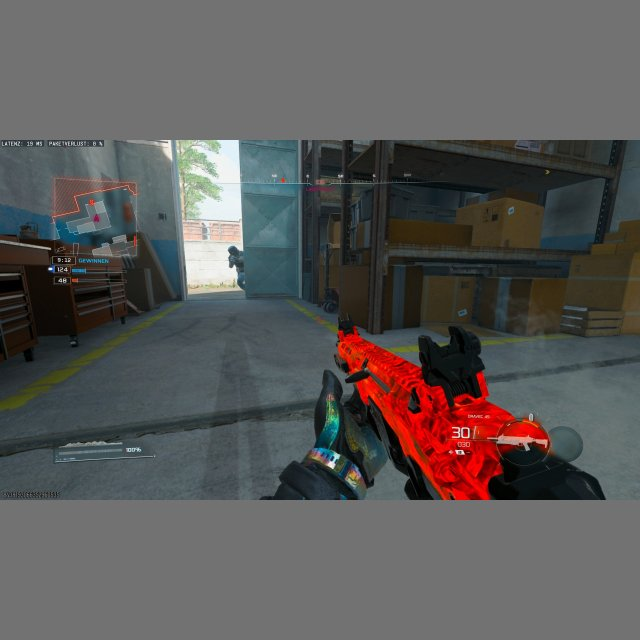head: (228, 245, 238, 254)
player: (227, 245, 244, 288)
